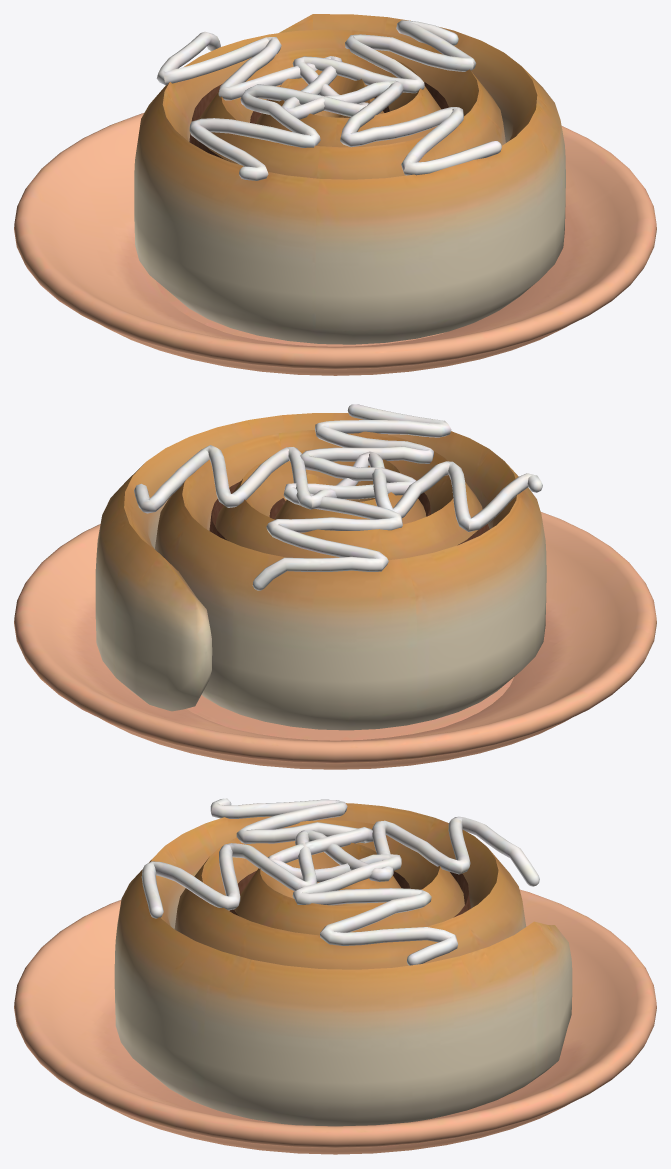
File: rollo_canela.glb
The picture shows the model from 3 angles, top to bottom: view 1: azimuth 30°, elevation 25°; view 2: azimuth 150°, elevation 25°; view 3: azimuth 270°, elevation 25°; orthographic projection.
Visible parts, largest first — view 1: cinnamon-roll_body; view 2: cinnamon-roll_body; view 3: cinnamon-roll_body.
Part boxes in pixels (<box>): cinnamon-roll_body: <box>14,14,656,375</box>; cinnamon-roll_body: <box>14,404,656,769</box>; cinnamon-roll_body: <box>14,798,656,1154</box>.
Size of the model in its own units: 0.135 by 0.05 by 0.135.
1 material, 1 textured.
